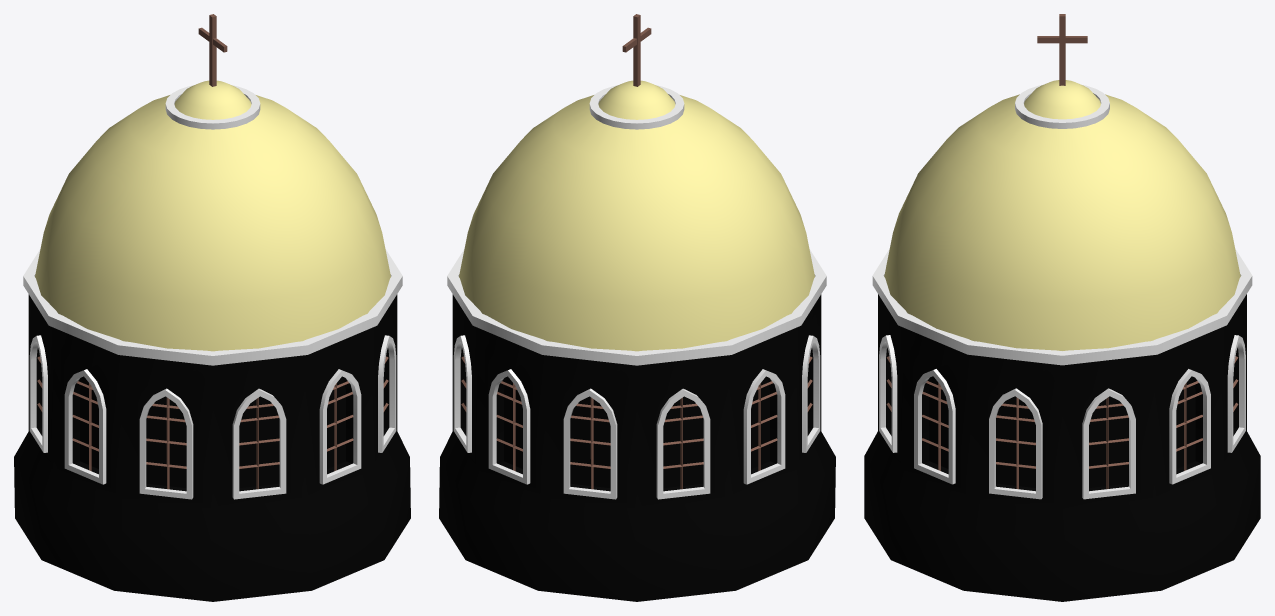
Rendered from roof_building_4.FBX.
3 renders of one model, left to right at view 1: azimuth 30°, elevation 25°; view 2: azimuth 150°, elevation 25°; view 3: azimuth 270°, elevation 25°, orthographic.
Visible parts, largest first — view 1: roof_building_4_LOD0; view 2: roof_building_4_LOD0; view 3: roof_building_4_LOD0.
Part boxes in pixels (x1,y1,x2,y2): roof_building_4_LOD0: (14, 14, 410, 601); roof_building_4_LOD0: (439, 14, 835, 601); roof_building_4_LOD0: (864, 14, 1260, 601).
Size of what is drawn, in the model's own units: 463 by 647 by 462.
